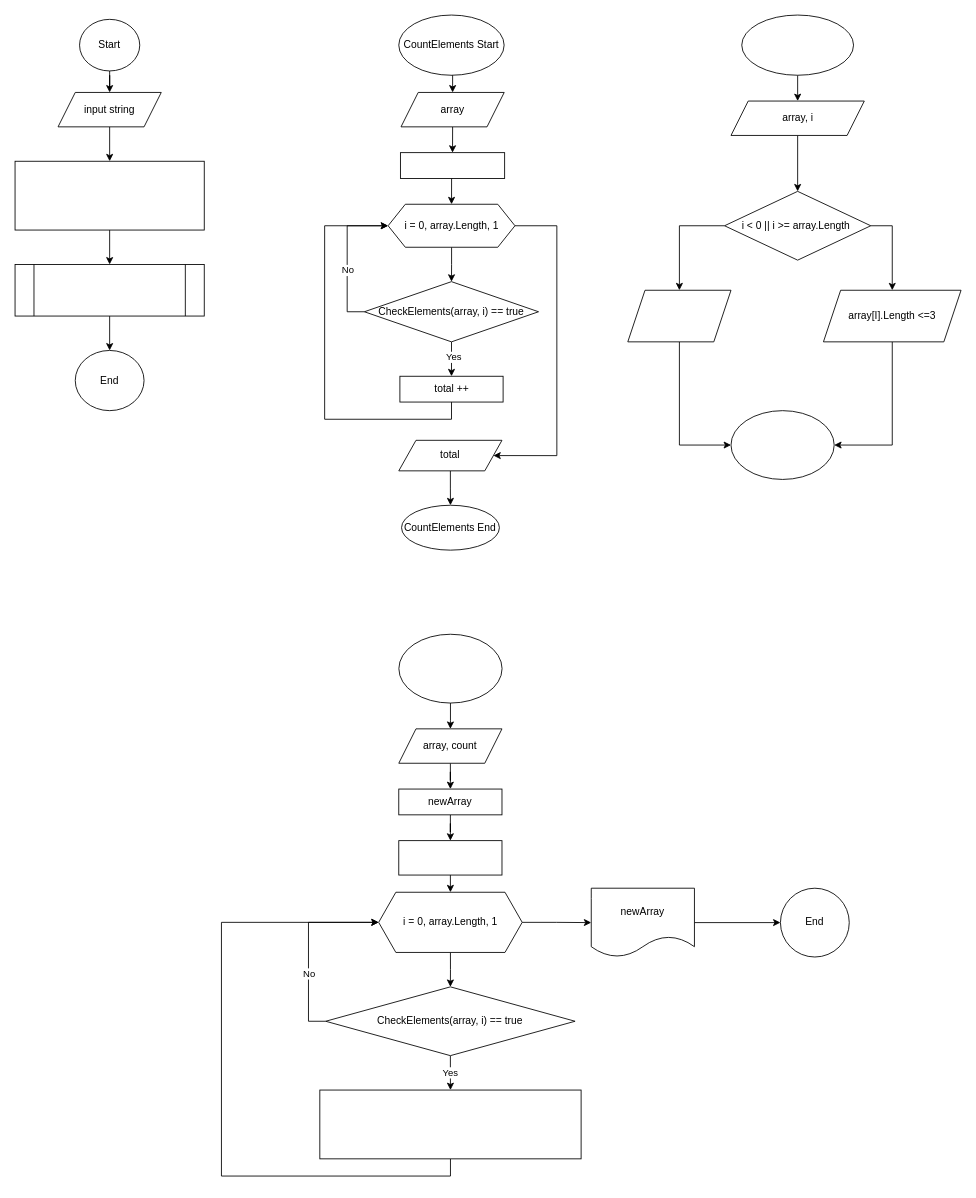
Image size: 976x1198. Some labels were removed from this diagram. The shapes that lost their labels are listed below. From the top down, each one's centre as x and y in pixels, then its label:
At point (797, 44): "CheckElements Start".
At point (452, 165): "total = 0".
At point (109, 195): "array = string count = CountElements(array)".
At point (109, 290): "newArray (array, count)".
At point (679, 315): "false".
At point (782, 444): "CheckElements End".
At point (450, 668): "newArray Start".
At point (450, 857): "count = 0".
At point (450, 1124): "temp = array[i] newArray[count] = temp count++".
